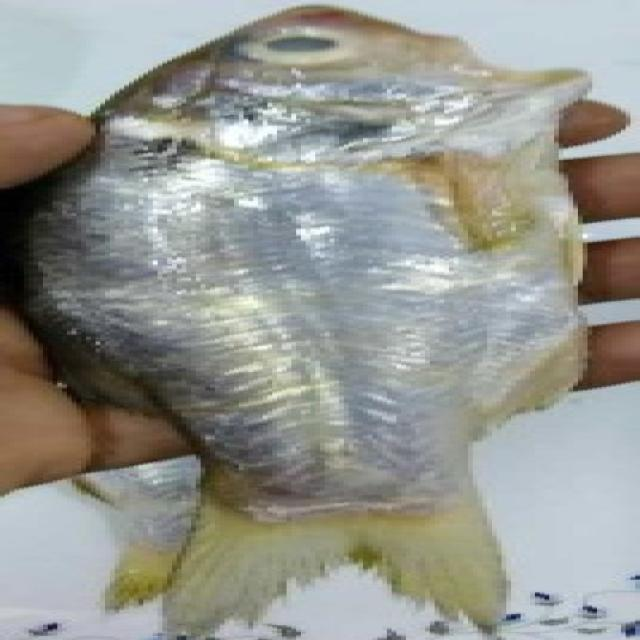Fourfinger-Threadfin: (0, 1, 640, 608)
